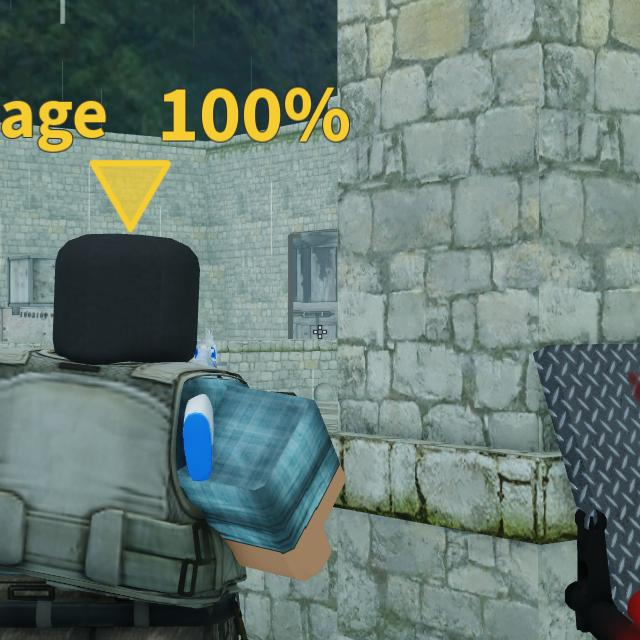Head: (54, 234, 200, 362)
Player: (0, 233, 345, 640)
